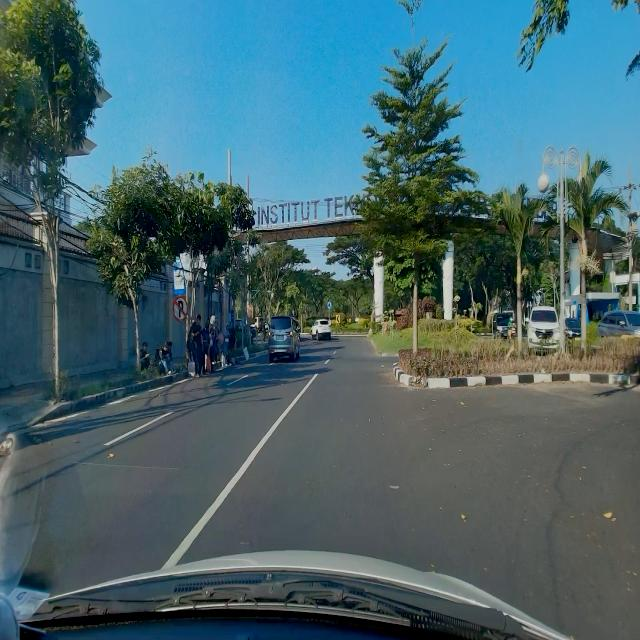car: (266, 314, 300, 365)
